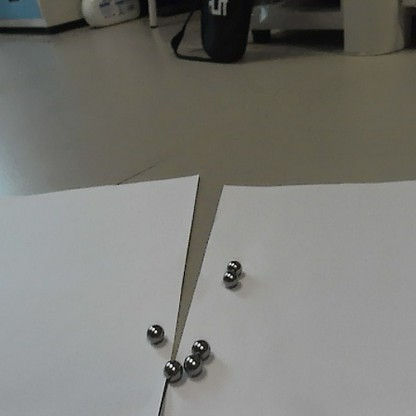ironball: (163, 358, 181, 381), (183, 353, 202, 373), (191, 338, 208, 356), (147, 323, 162, 342), (221, 273, 236, 287), (226, 258, 239, 273)
